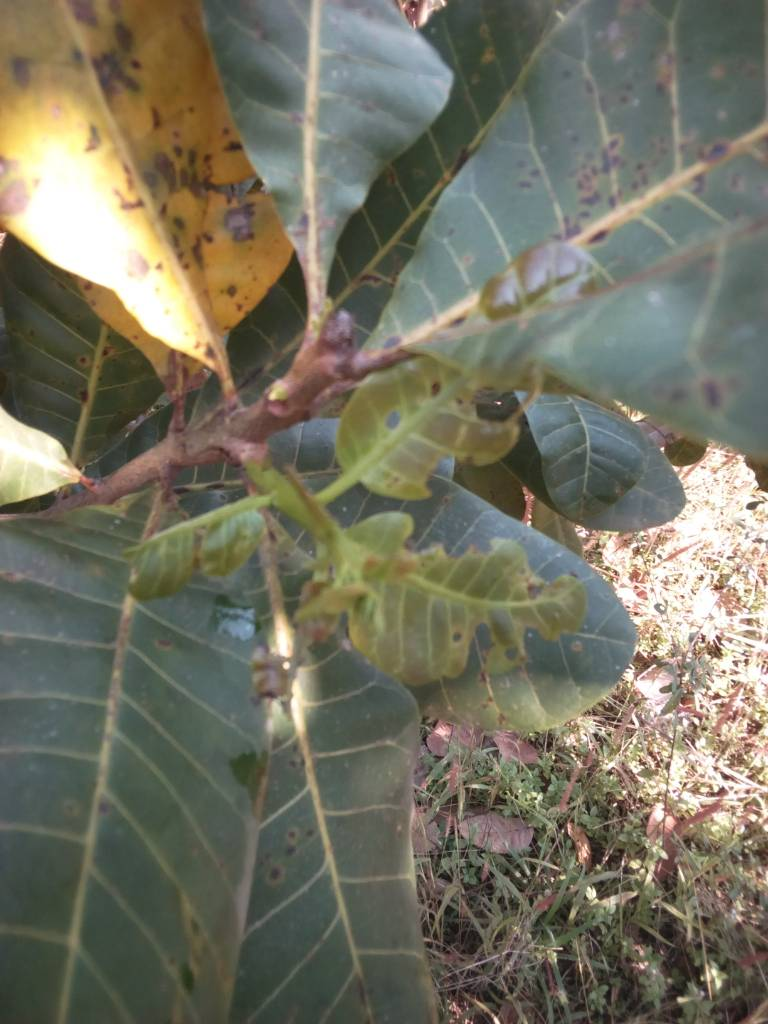Pestalotiose: (388, 2, 768, 352), (1, 597, 218, 1024), (244, 711, 388, 1024), (4, 277, 133, 447)
